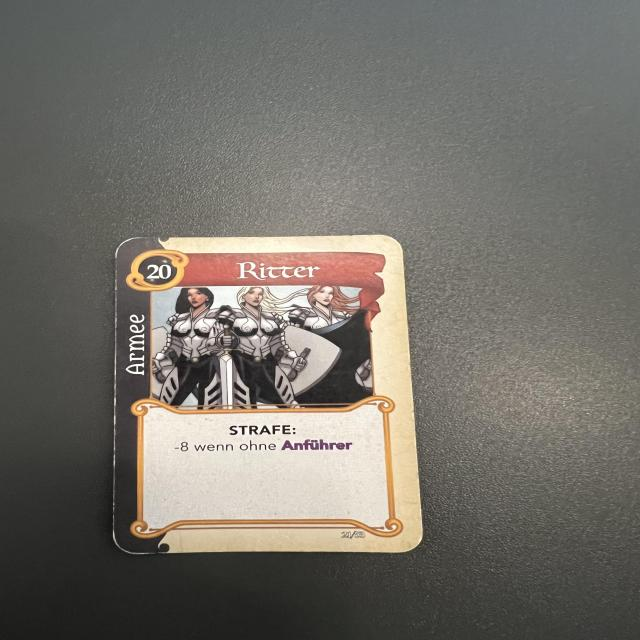Knights: (118, 231, 424, 553)
